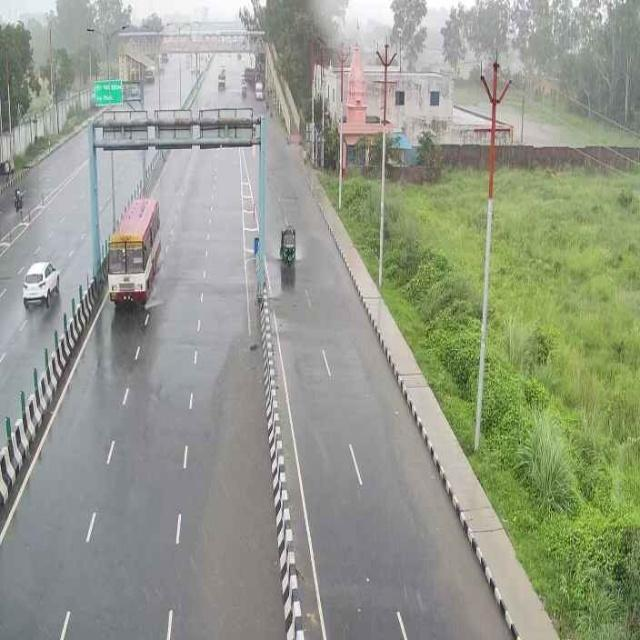car: (21, 256, 60, 314), (274, 221, 298, 265)
